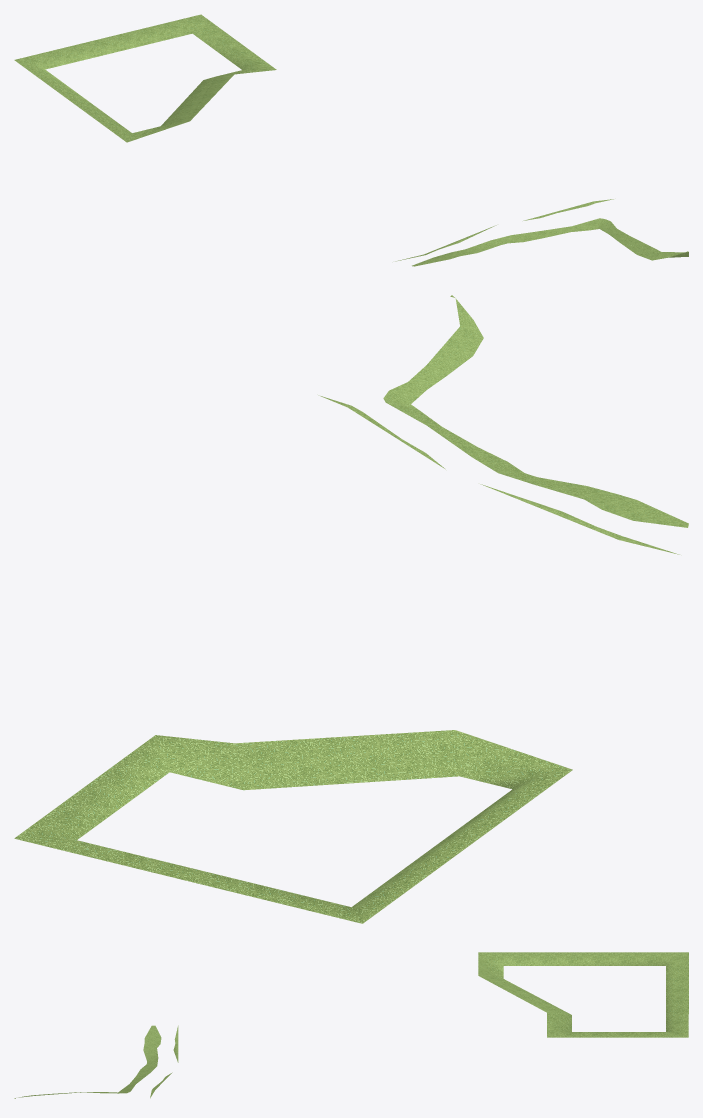
File: kd_stage_136282_1_29_bounded.glb
The picture shows the model from 3 angles, top to bottom: view 1: azimuth 30°, elevation 25°; view 2: azimuth 150°, elevation 25°; view 3: azimuth 270°, elevation 25°; orthographic projection. The views are drawn at different scales.
Parts seen in each view (by area): view 1: kd_stage_136282_1_29_bounded; view 2: kd_stage_136282_1_29_bounded; view 3: kd_stage_136282_1_29_bounded.
Part boxes in pixels (x1,y1,x2,y2): kd_stage_136282_1_29_bounded: (14, 14, 688, 266); kd_stage_136282_1_29_bounded: (14, 295, 688, 923); kd_stage_136282_1_29_bounded: (14, 952, 688, 1098).
Bounding box in the file's own units: 16.67 × 1.7 × 33.28.
Materials: 1 (1 with a texture image).
